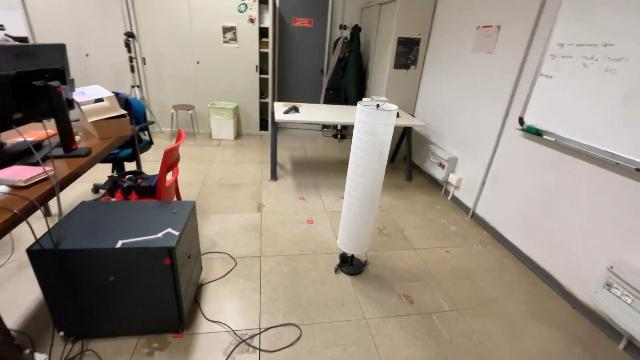Chair: (96, 127, 186, 205)
Lamp: (331, 97, 402, 279)
Stool: (166, 103, 204, 144)
